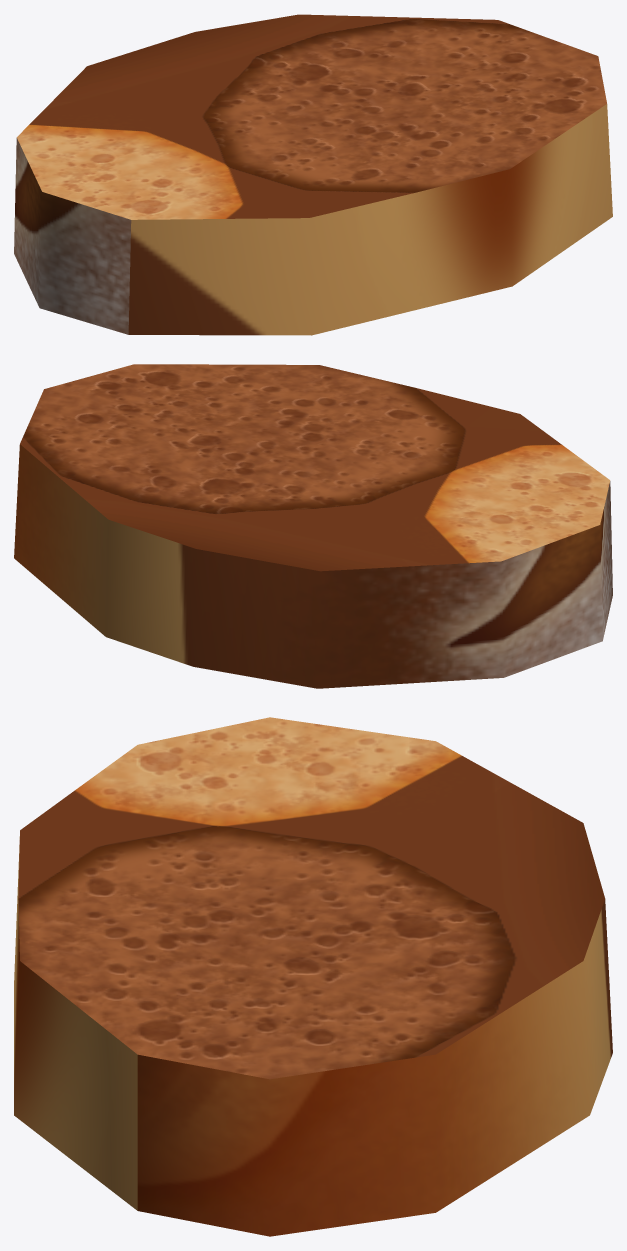
Rendered from French_01_Slice.fbx.
The picture shows the model from 3 angles, top to bottom: view 1: azimuth 30°, elevation 25°; view 2: azimuth 150°, elevation 25°; view 3: azimuth 270°, elevation 25°; orthographic projection. The views are drawn at different scales.
Parts seen in each view (by area): view 1: French_01_Slice; view 2: French_01_Slice; view 3: French_01_Slice.
Boxes of the visible parts, <box> form: French_01_Slice: <box>14,14,612,335</box>; French_01_Slice: <box>14,364,612,688</box>; French_01_Slice: <box>14,717,612,1236</box>.
Size of the model in its own units: 40.97 by 8.05 by 28.29.
